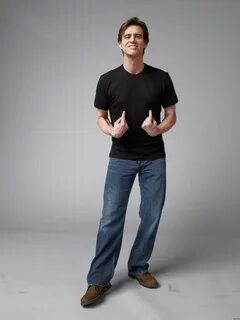awake: (79, 16, 179, 308)
